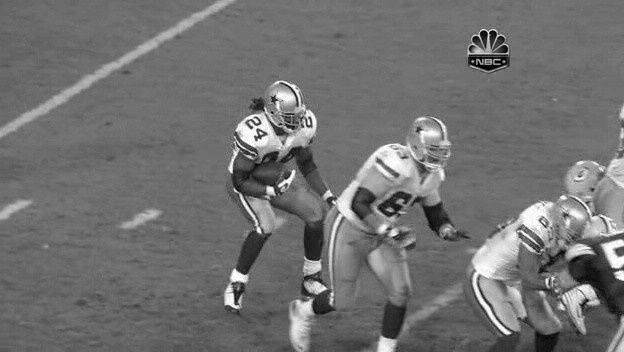person: (269, 83, 305, 129), (268, 83, 304, 129), (270, 83, 306, 129), (269, 82, 305, 128), (269, 84, 305, 130)
target_negative: (3, 5, 119, 284), (204, 225, 411, 293), (144, 72, 185, 220), (407, 232, 587, 264), (542, 246, 567, 307), (401, 338, 549, 347)
